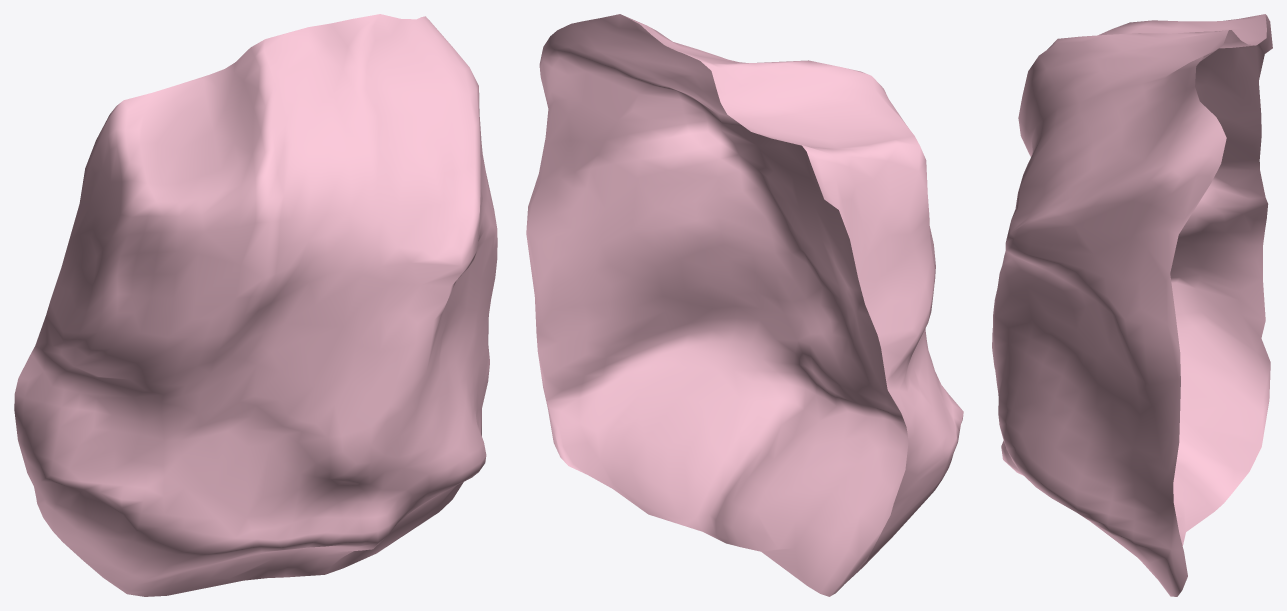
File: Rock2.fbx
3 renders of one model, left to right at view 1: azimuth 30°, elevation 25°; view 2: azimuth 150°, elevation 25°; view 3: azimuth 270°, elevation 25°, orthographic. The views are drawn at different scales.
Visible parts, largest first — view 1: Rock34; view 2: Rock34; view 3: Rock34.
Boxes of the visible parts, box(x1,y1,x2,y2) form: Rock34: box(14, 14, 497, 596); Rock34: box(526, 14, 963, 596); Rock34: box(992, 14, 1272, 596).
Size of the model in its own units: 230 by 267 by 124.
